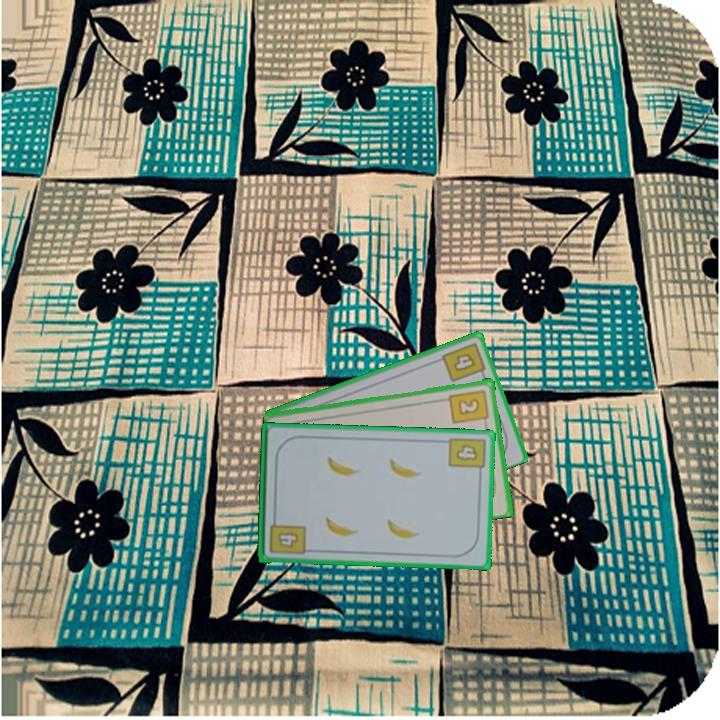2b: (446, 386, 492, 428)
4b: (438, 339, 489, 385), (445, 434, 488, 478), (266, 513, 308, 557)
